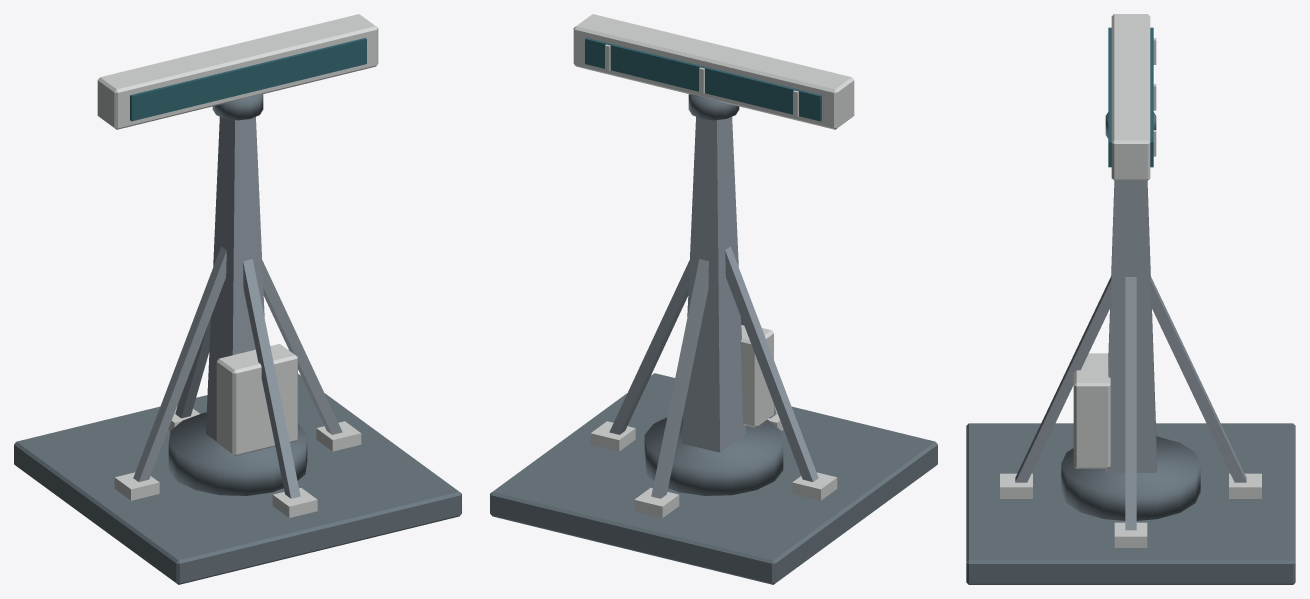
Rendered from MOD_Radar.fbx.
3 views of the same model, side by side, from view 1: azimuth 30°, elevation 25°; view 2: azimuth 150°, elevation 25°; view 3: azimuth 270°, elevation 25° (orthographic).
Visible parts, largest first — view 1: MOD_Radar_Root_Visual, RadarPivot_Visual.001; view 2: MOD_Radar_Root_Visual, RadarPivot_Visual.001; view 3: MOD_Radar_Root_Visual, RadarPivot_Visual.001.
Boxes of the visible parts, x1,y1,x2,y2 form: MOD_Radar_Root_Visual: (14, 94, 461, 584); RadarPivot_Visual.001: (97, 14, 378, 129); MOD_Radar_Root_Visual: (490, 94, 937, 584); RadarPivot_Visual.001: (573, 14, 854, 129); MOD_Radar_Root_Visual: (966, 112, 1295, 584); RadarPivot_Visual.001: (1108, 14, 1156, 180).
Bounding box in the file's own units: 170 × 250 × 170.
